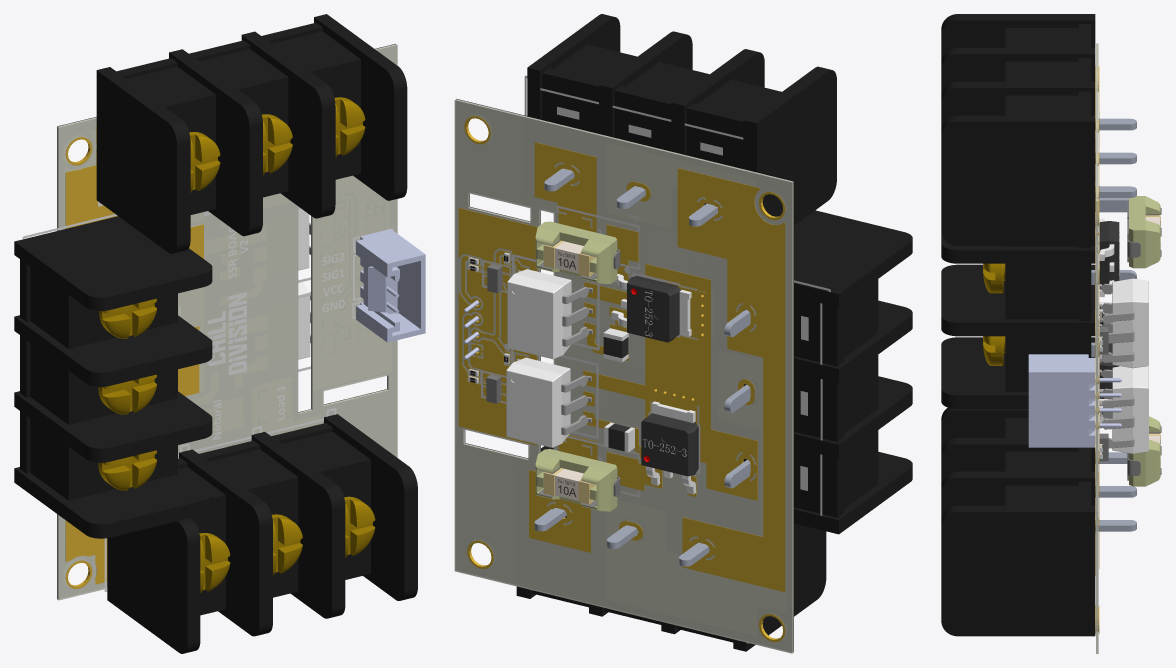
File: Board2.obj
3 views of the same model, side by side, from view 1: azimuth 30°, elevation 25°; view 2: azimuth 150°, elevation 25°; view 3: azimuth 270°, elevation 25° (orthographic). The views are drawn at different scales.
Visible parts, largest first — view 1: ComponentBody, ComponentBody.6, ComponentBody.3, Core, ComponentBody.9, ComponentBody.8, ComponentBody.2, ComponentBody.5, Top, Netural, Pad.20, ComponentBody.55 (+1 smaller); view 2: Core, ComponentBody, ComponentBody.6, Earth, GND, Line, ComponentBody.10, ComponentBody.55, ComponentBody.3, Pad.20, Load 2, ComponentBody.59 (+19 smaller); view 3: ComponentBody, ComponentBody.3, ComponentBody.6, ComponentBody.9, ComponentBody.10, ComponentBody.55, ComponentBody.20, Core, ComponentBody.1, ComponentBody.8, ComponentBody.11, ComponentBody.4 (+7 smaller).
Part boxes in pixels (box(x1,y1,x2,y2)): ComponentBody: box(96, 14, 407, 253); ComponentBody.6: box(14, 216, 212, 538); ComponentBody.3: box(107, 414, 417, 653); Core: box(57, 44, 397, 600); ComponentBody.9: box(356, 229, 425, 342); ComponentBody.8: box(98, 298, 156, 490); ComponentBody.2: box(189, 97, 365, 192); ComponentBody.5: box(199, 496, 375, 592); Top: box(22, 193, 393, 591); Netural: box(65, 126, 117, 584); Pad.20: box(65, 137, 203, 588); ComponentBody.55: box(298, 279, 310, 359); Core: box(454, 99, 793, 653); ComponentBody: box(527, 14, 836, 225); ComponentBody.6: box(743, 210, 912, 534); Earth: box(677, 168, 785, 592); GND: box(458, 208, 537, 445); Line: box(645, 264, 757, 500); ComponentBody.10: box(507, 269, 571, 359); ComponentBody.55: box(506, 357, 570, 447); ComponentBody.3: box(516, 446, 826, 651); Pad.20: box(464, 116, 785, 642); Load 2: box(534, 142, 596, 232); ComponentBody.59: box(641, 413, 698, 476); ComponentBody: box(941, 14, 1095, 245); ComponentBody.3: box(941, 407, 1095, 636); ComponentBody.6: box(941, 233, 1095, 408); ComponentBody.9: box(1028, 354, 1121, 447); ComponentBody.10: box(1112, 278, 1148, 368); ComponentBody.55: box(1112, 366, 1148, 453); ComponentBody.20: box(1129, 196, 1160, 268); Core: box(1096, 43, 1098, 653); ComponentBody.1: box(1095, 118, 1136, 197); ComponentBody.8: box(983, 263, 1005, 365); ComponentBody.11: box(1099, 283, 1134, 362); ComponentBody.4: box(1095, 452, 1136, 531).
Size of the model in its own units: 5.1 by 6.76 by 2.65.
